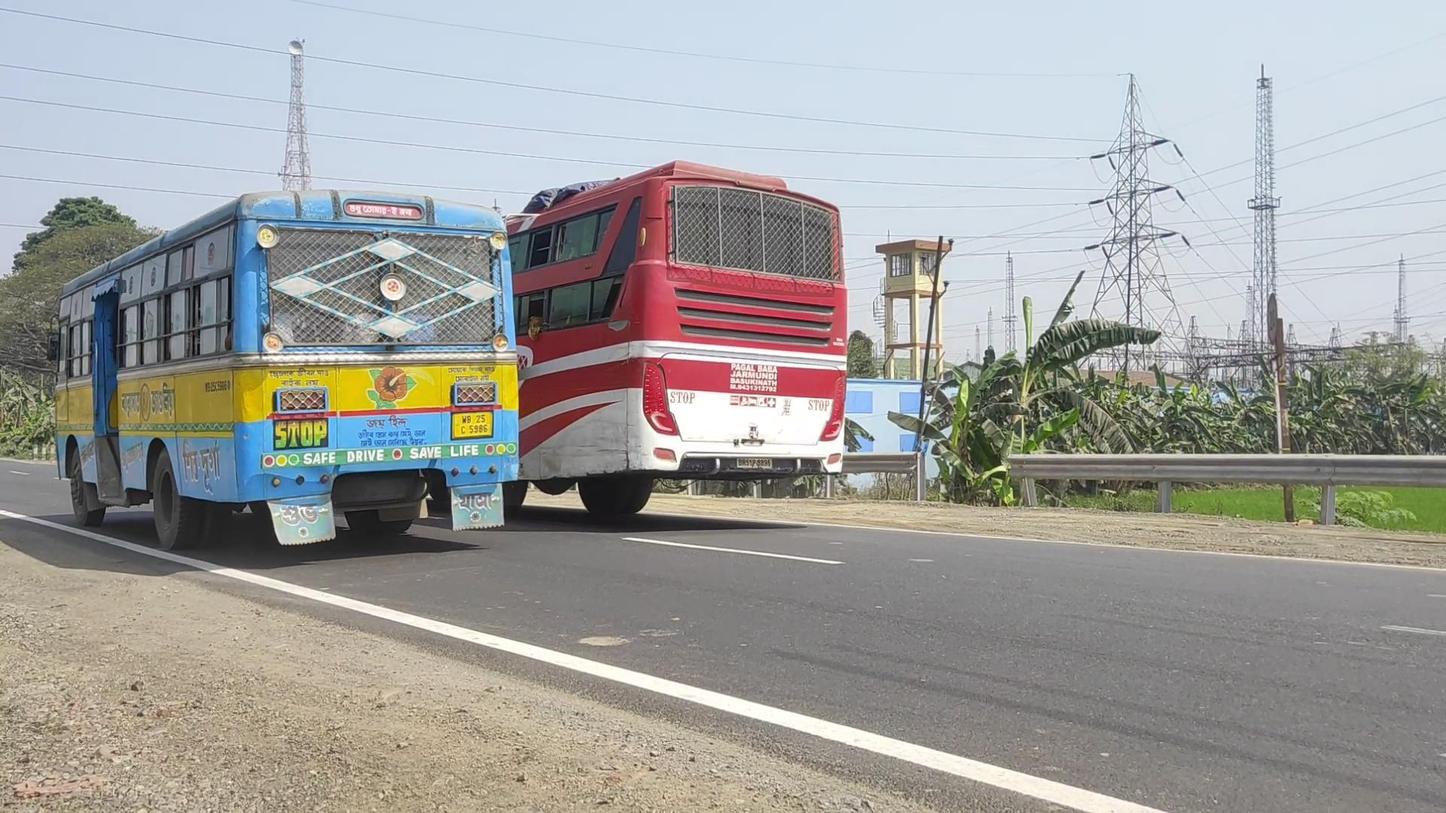Bus: (47, 189, 518, 555), (509, 160, 850, 532)
